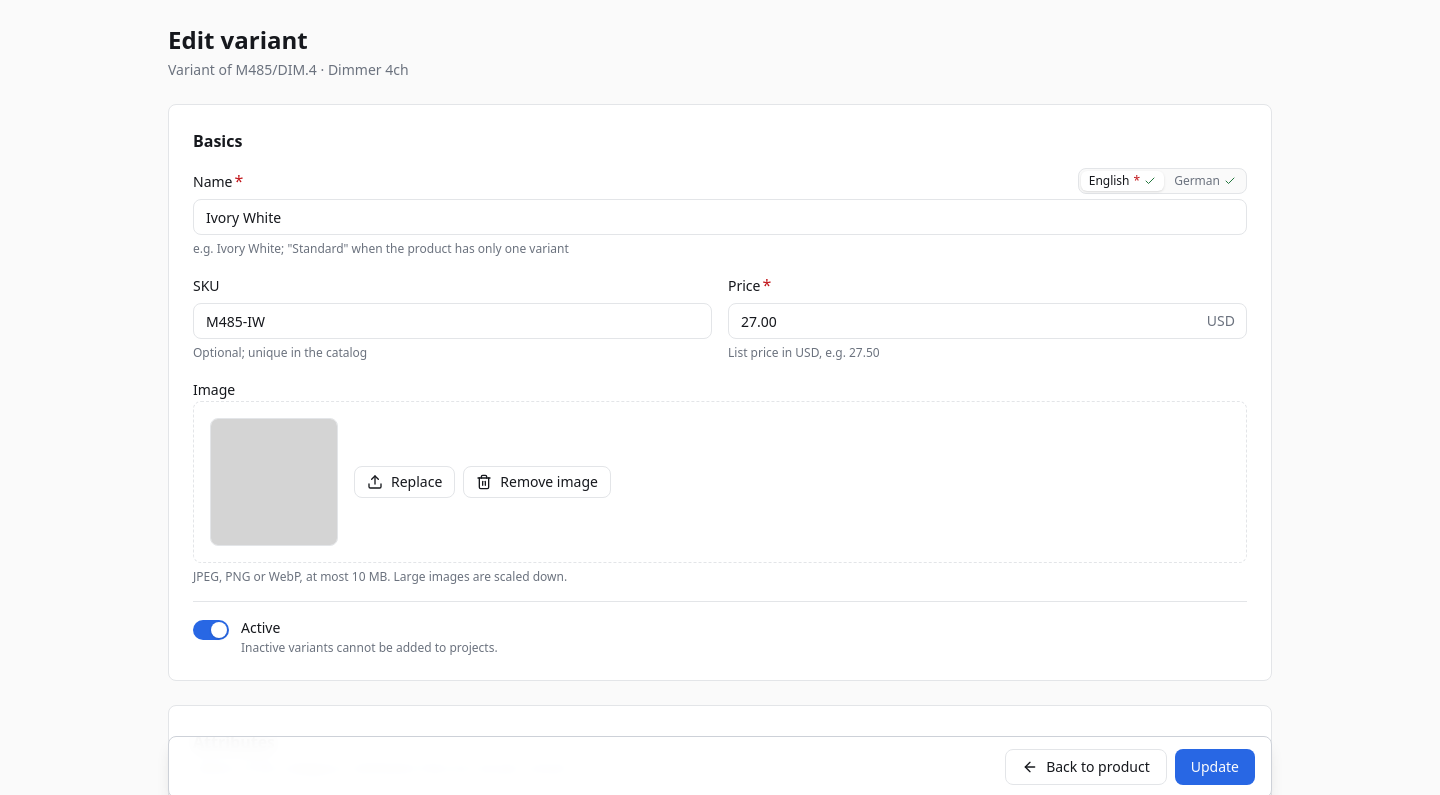
Test: VariantEditorPage › shows an image that no longer exists at the image
Click the button "Update" at (1215, 767), box [1175, 749, 1255, 785]
(page scrolled)
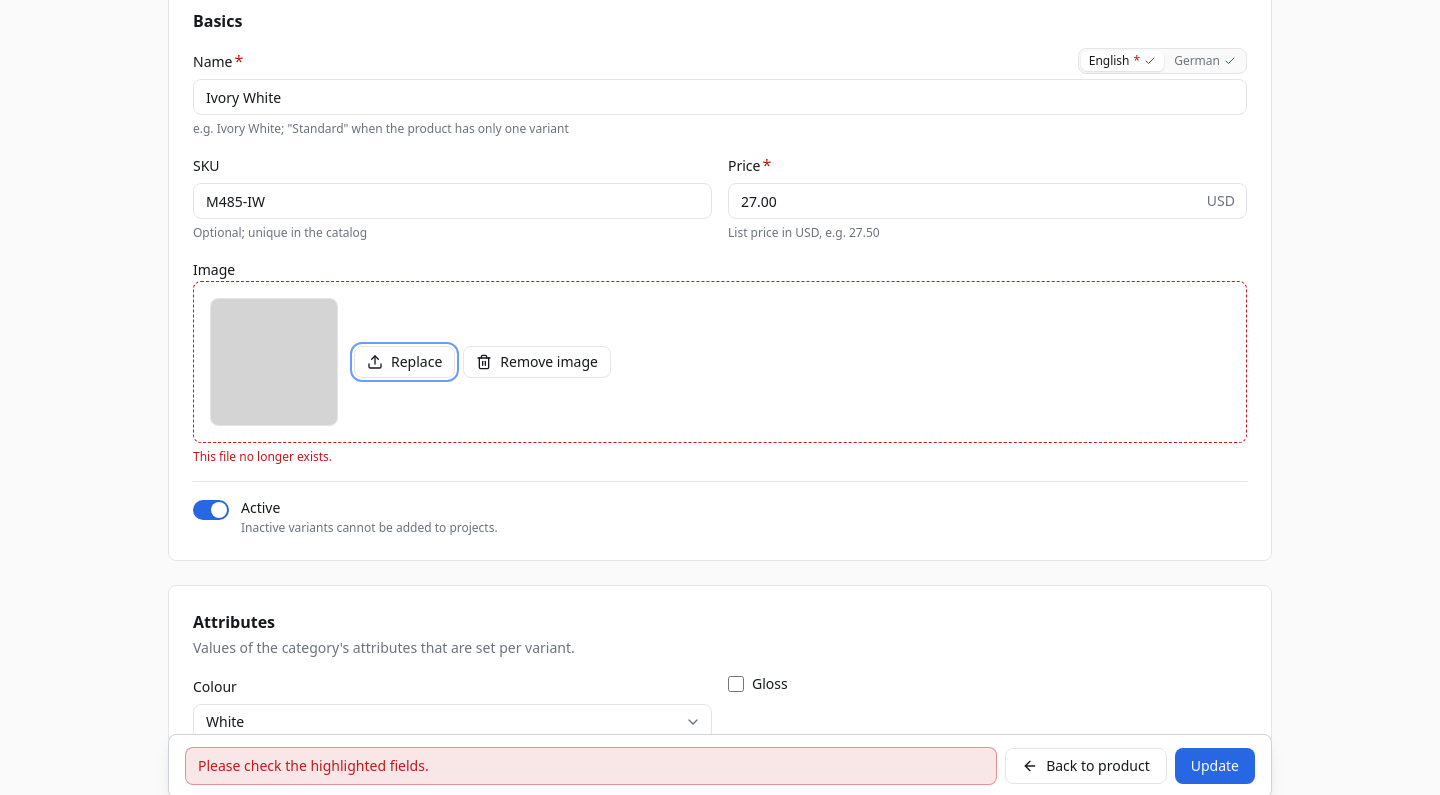
Check: the text "This file no longer exists." is shown, box [193, 448, 332, 465]
